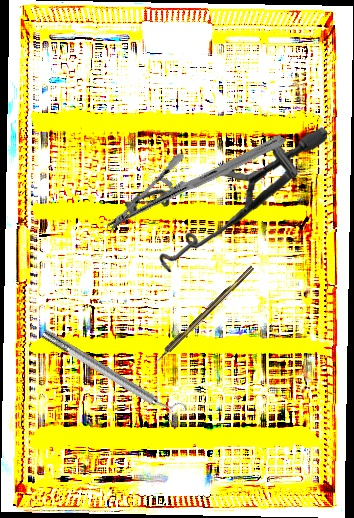Fixation Ring: (37, 321, 189, 429)
Hook Surgical: (149, 264, 256, 368)
Needle Holder: (106, 83, 287, 282)
Speculum: (121, 116, 328, 281)
